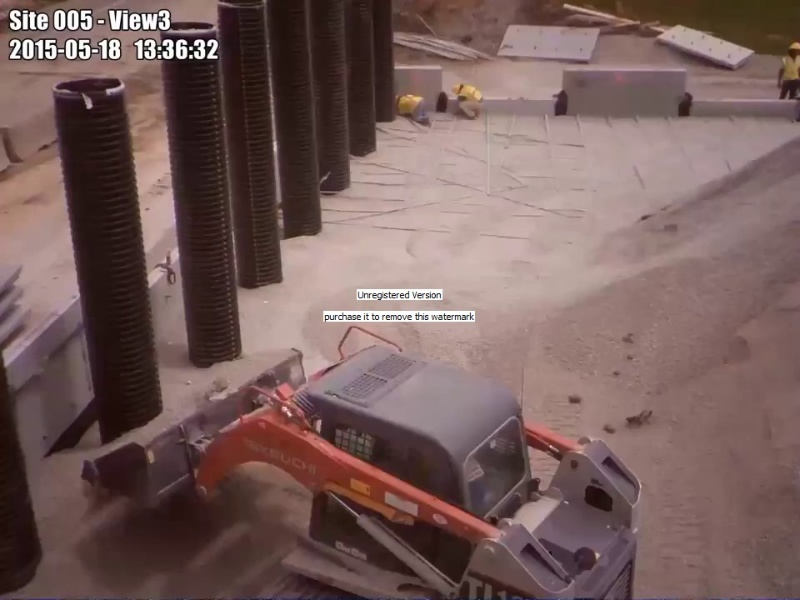bulldozer: (79, 325, 645, 600)
columns: (51, 77, 164, 450), (161, 21, 243, 368), (217, 1, 284, 290), (267, 1, 323, 239), (307, 1, 353, 198), (343, 1, 377, 158), (369, 1, 398, 124)
hardhat: (451, 82, 463, 94), (790, 40, 800, 49)
person: (776, 39, 800, 100), (450, 82, 487, 121), (395, 93, 433, 124)
wall: (488, 66, 800, 120)
wood: (565, 3, 664, 39)
